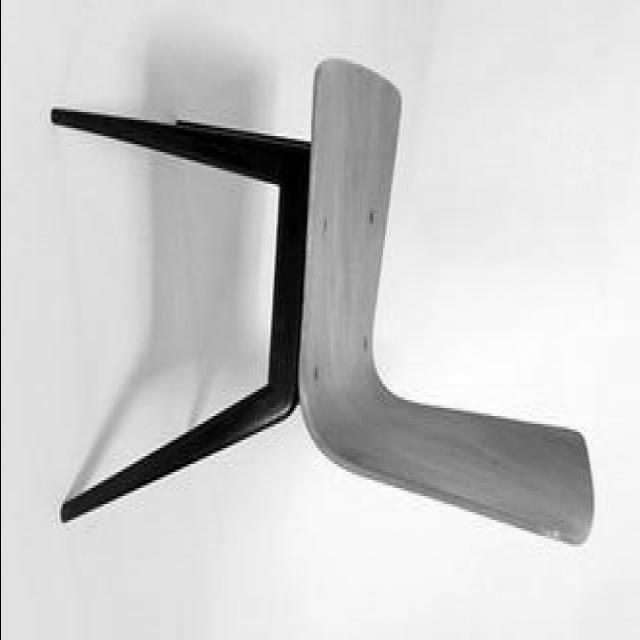chair: (56, 58, 598, 550)
